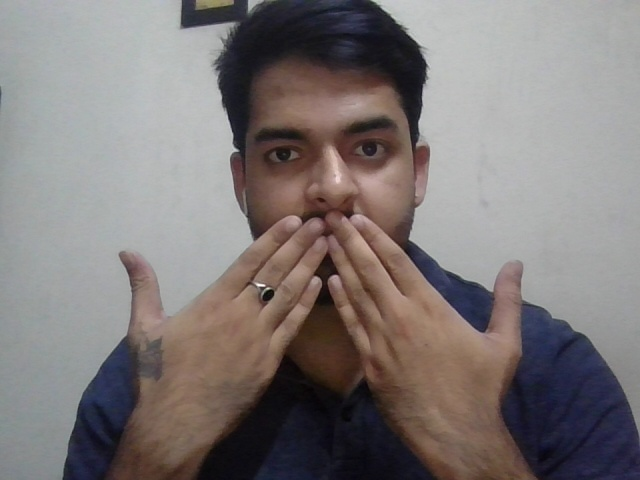thanks: (117, 210, 526, 453)
